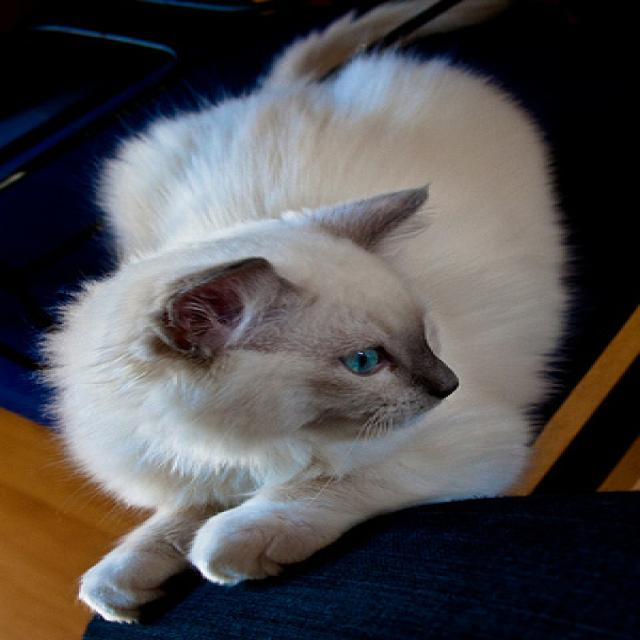Ragdoll: (38, 0, 575, 624)
